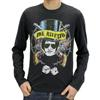abbigliamento_uomo: (12, 3, 88, 91)
